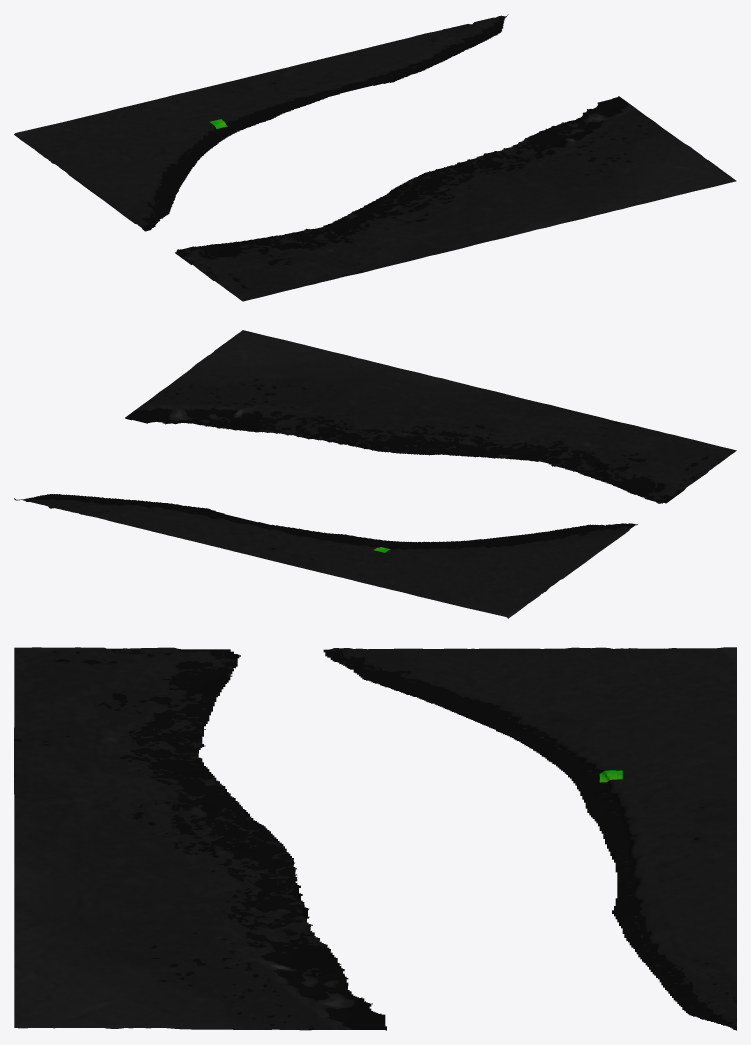
The model's file is Terrain_02.fbx.
The picture shows the model from 3 angles, top to bottom: view 1: azimuth 30°, elevation 25°; view 2: azimuth 150°, elevation 25°; view 3: azimuth 270°, elevation 25°; orthographic projection. The views are drawn at different scales.
Parts seen in each view (by area): view 1: Terrain; view 2: Terrain; view 3: Terrain.
Boxes of the visible parts, x1=… form: Terrain: x1=14, y1=14, x2=736, y2=301; Terrain: x1=14, y1=330, x2=736, y2=618; Terrain: x1=14, y1=647, x2=736, y2=1030.
Bounding box in the file's own units: 900 × 6.74 × 723.
